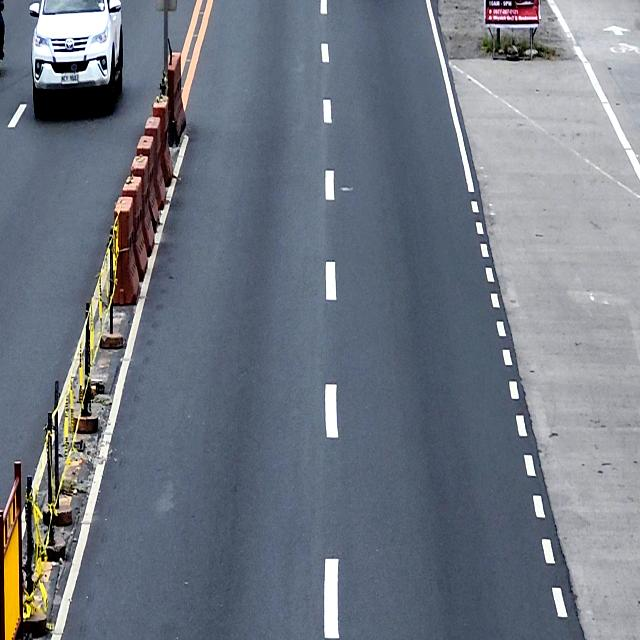Car: (28, 0, 123, 117)
License-Plate: (60, 71, 79, 85)
